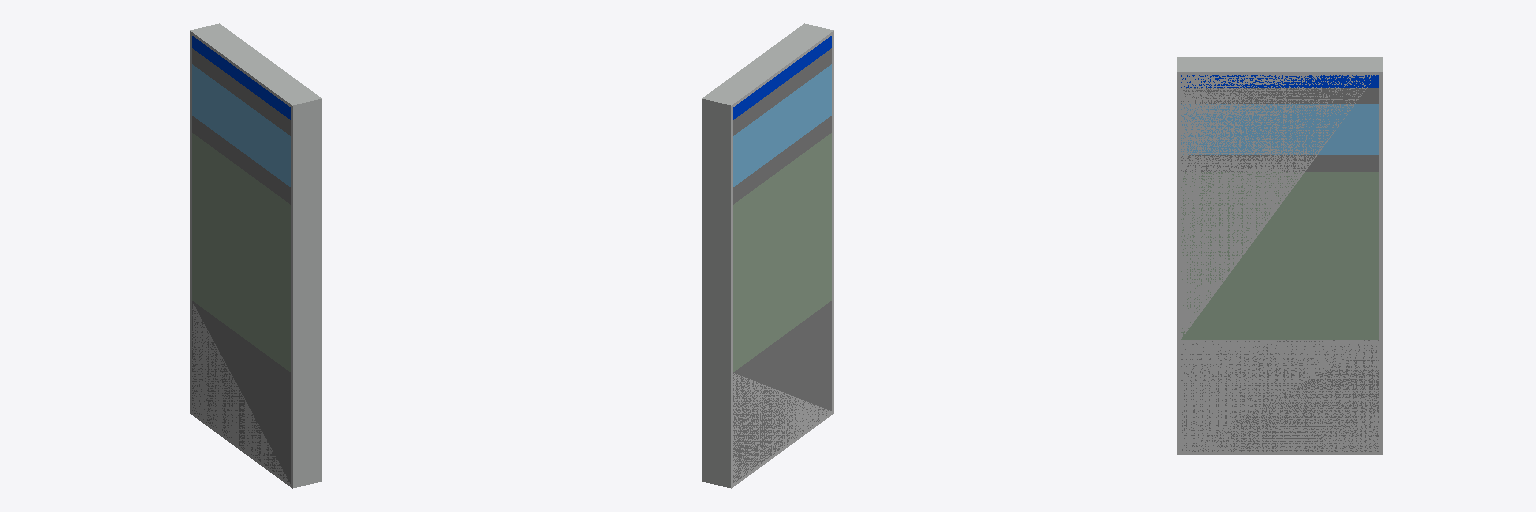
Rendered from WayFinder.obj.
3 views of the same model, side by side, from view 1: azimuth 30°, elevation 25°; view 2: azimuth 150°, elevation 25°; view 3: azimuth 270°, elevation 25° (orthographic).
Visible parts, largest first — view 1: Mesh1 Model; view 2: Mesh1 Model; view 3: Mesh1 Model.
Boxes of the visible parts, <box> form: Mesh1 Model: <box>190,23,321,488</box>; Mesh1 Model: <box>702,23,833,488</box>; Mesh1 Model: <box>1177,57,1382,454</box>.
Size of the model in its own units: 0.2 by 2.47 by 1.2.